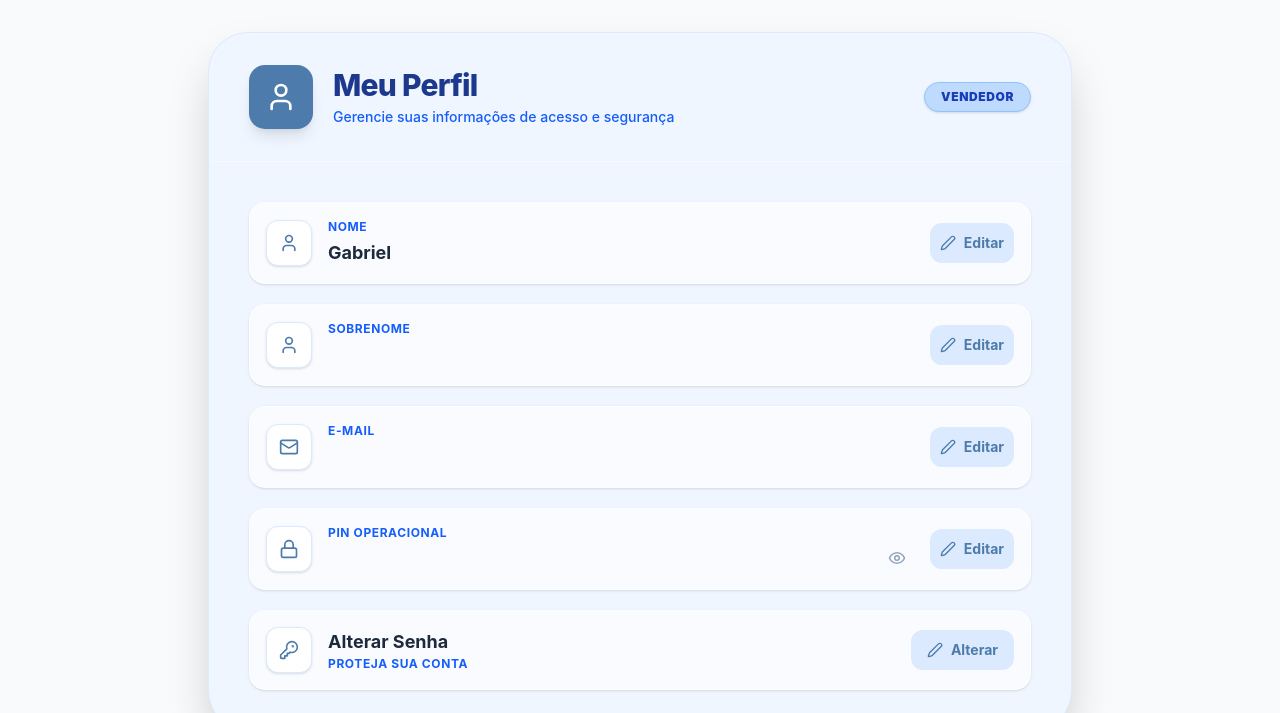
Página de Perfil › Deve atualizar os campos via PATCH (200) e exibir mensagem de sucesso
Expected: the 1st field showing "Gabriel" is shown, left=328, top=239, right=914, bottom=267
Clica no botão "Editar" do primeiro campo (Nome)
Step 1. Click the 1st button "Editar" → (972, 243), box left=930, top=223, right=1014, bottom=263
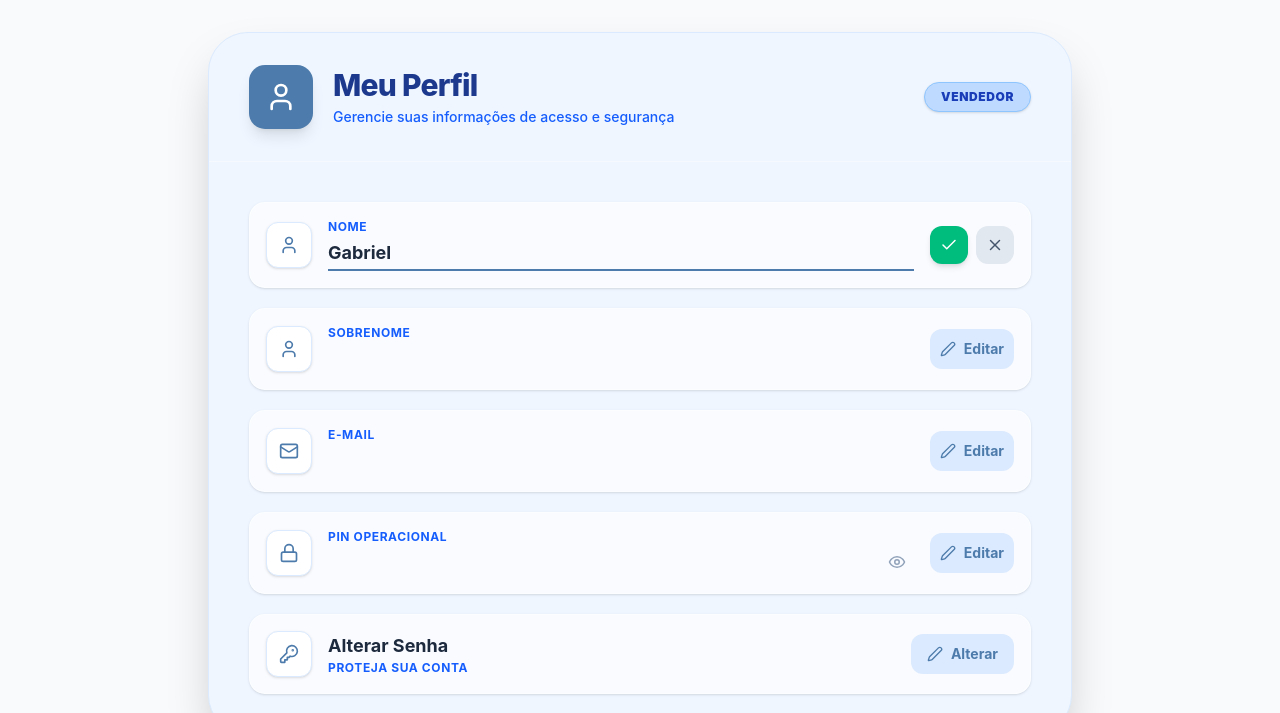
Modifica o valor
Step 2. Replace the text in the 1st field showing "Gabriel" with "Gabriel Atualizado" → (621, 255), box left=328, top=239, right=914, bottom=271
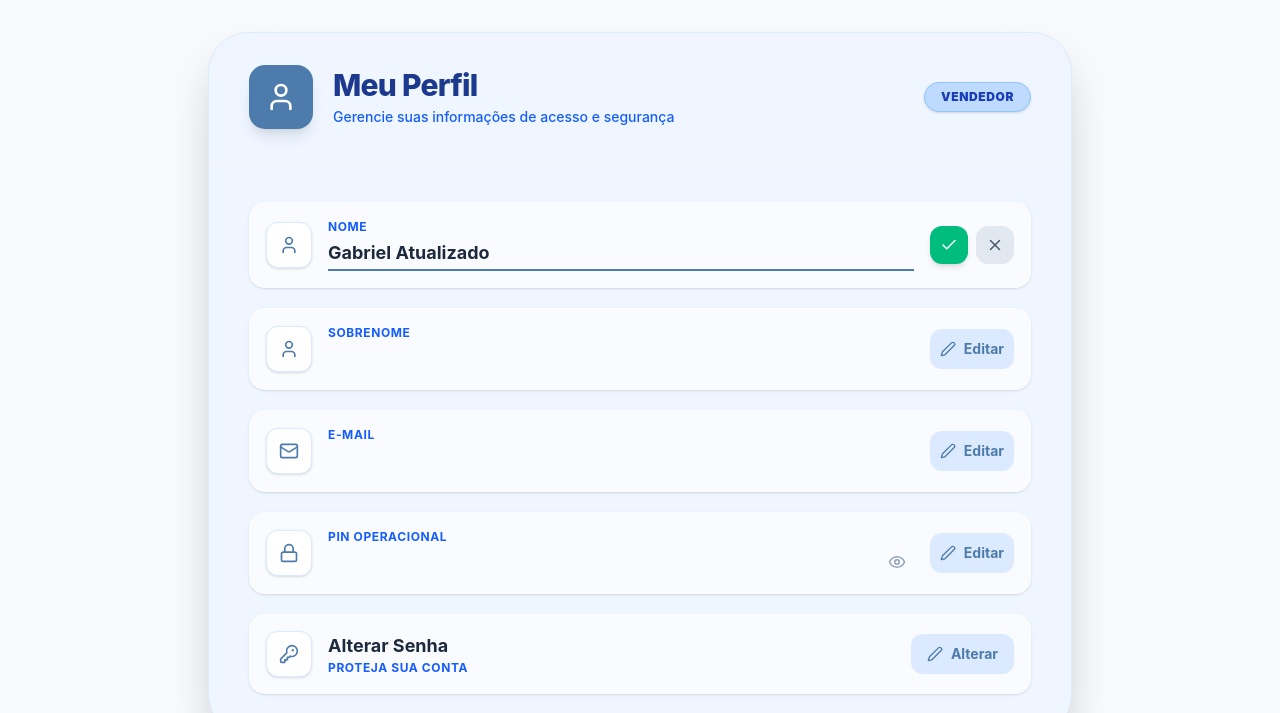
Step 3. Click the 1st button → (949, 245), box left=930, top=226, right=968, bottom=264
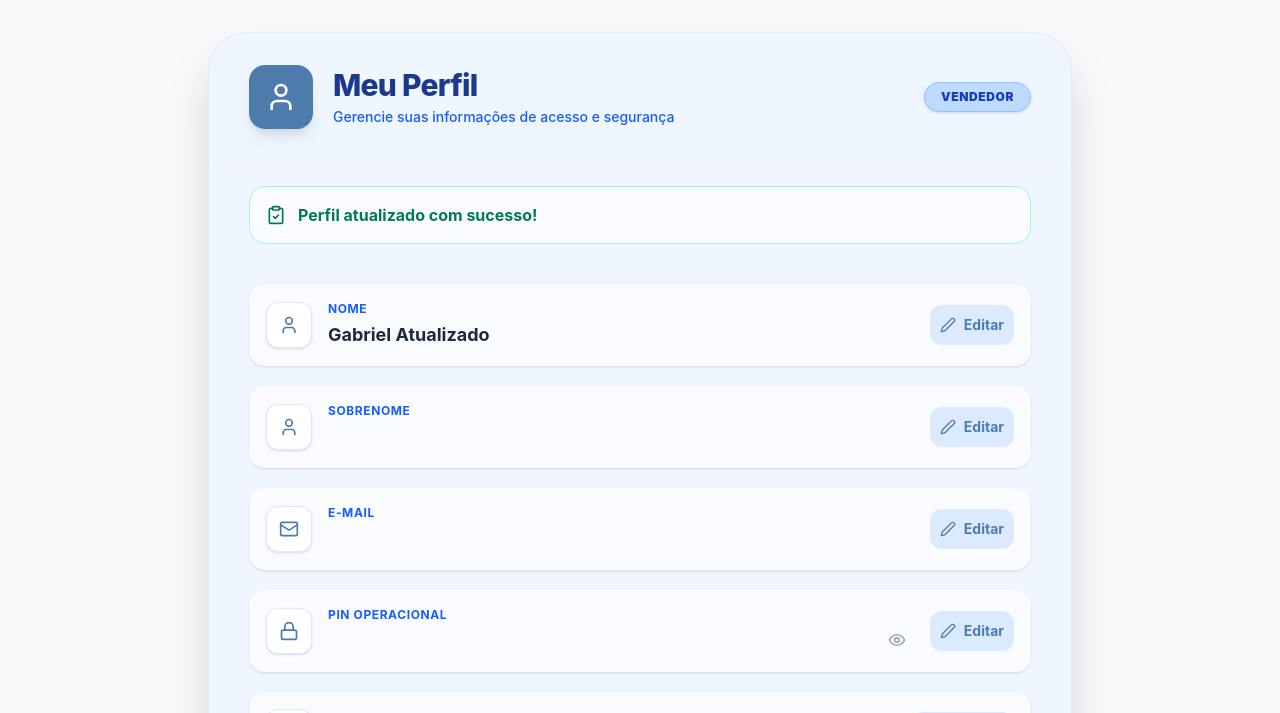
Now the text "Perfil atualizado com sucesso!" is shown, box left=249, top=186, right=1031, bottom=244
